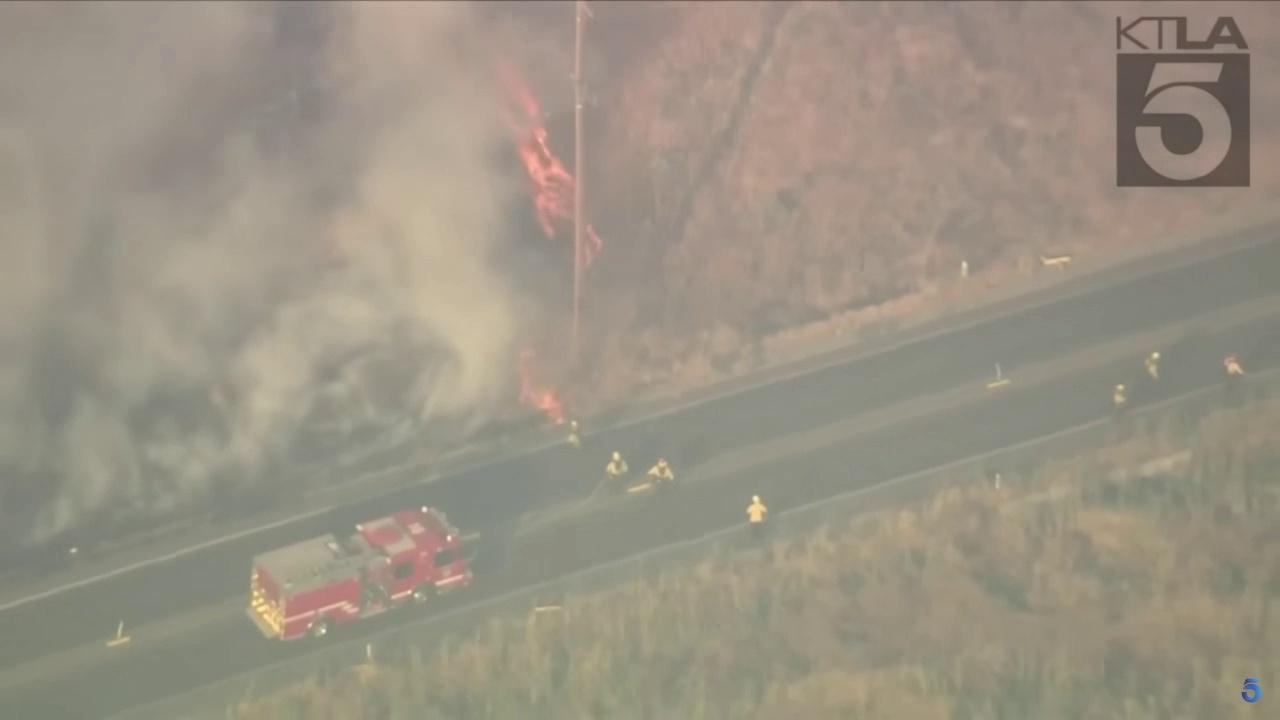fire: (495, 59, 573, 240), (516, 365, 567, 425), (584, 220, 605, 268)
smoke: (0, 0, 574, 531)
